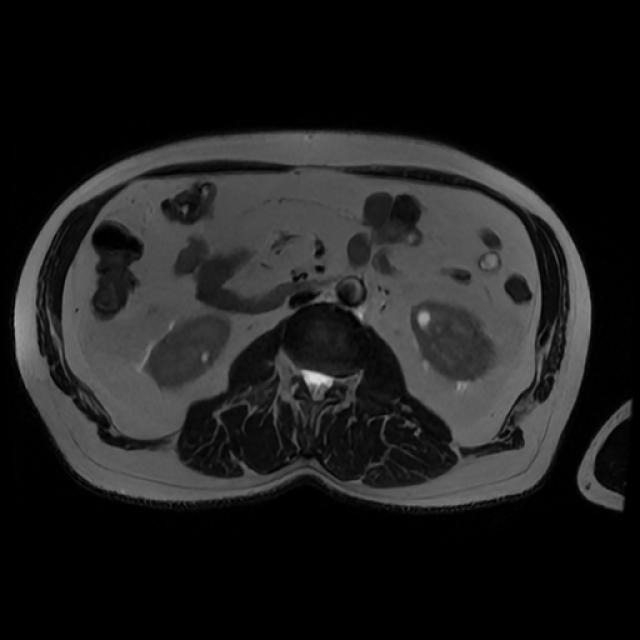sag: (142, 313, 231, 388)
sol: (406, 298, 495, 381)
